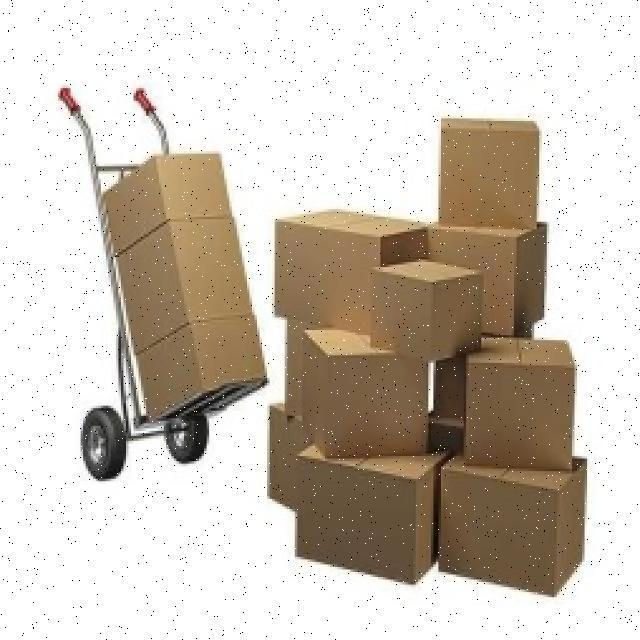box: (450, 447, 588, 601), (275, 207, 413, 342), (104, 222, 264, 338), (302, 452, 446, 570), (301, 338, 442, 458), (473, 335, 576, 466), (446, 98, 546, 230), (423, 216, 544, 322), (115, 326, 273, 402), (95, 150, 245, 223), (374, 264, 472, 360), (268, 401, 308, 495)
